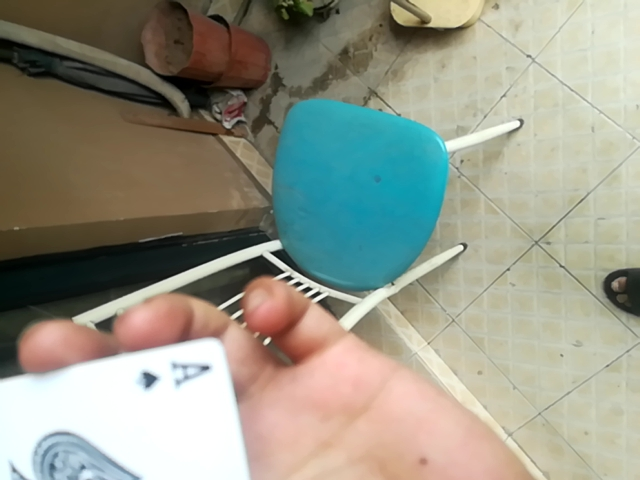ht a: (2, 334, 264, 480)
